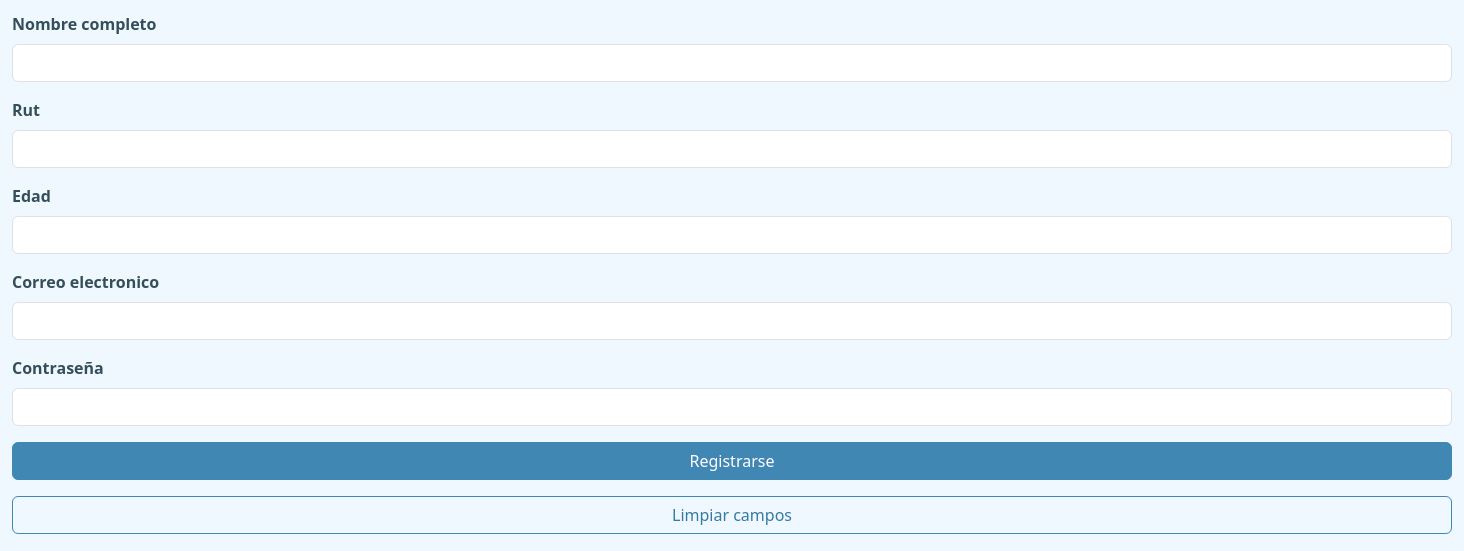
Limpia los campos del formulario al presionar el botón Limpiar campos
Step 1. Type "Carolina Fuentes" into the field labelled "Nombre completo" → coordinates (732, 63), box x1=12 y1=44 x2=1452 y2=82
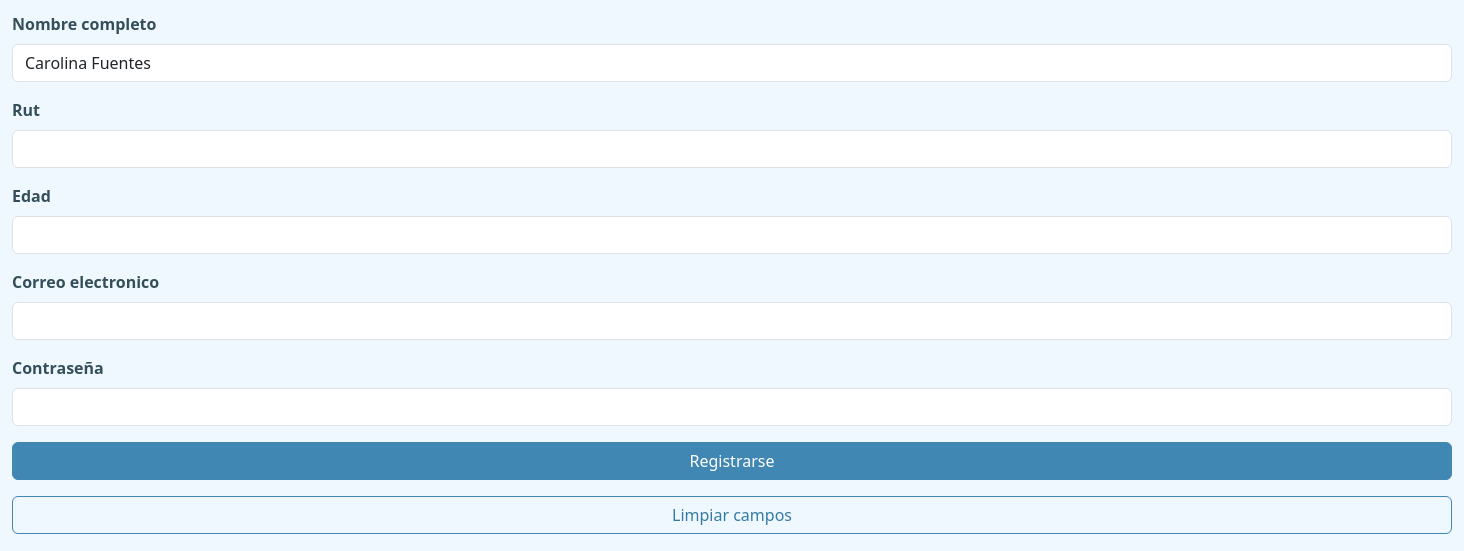
Step 2. Click the button "Limpiar campos" → coordinates (732, 515), box x1=12 y1=496 x2=1452 y2=534
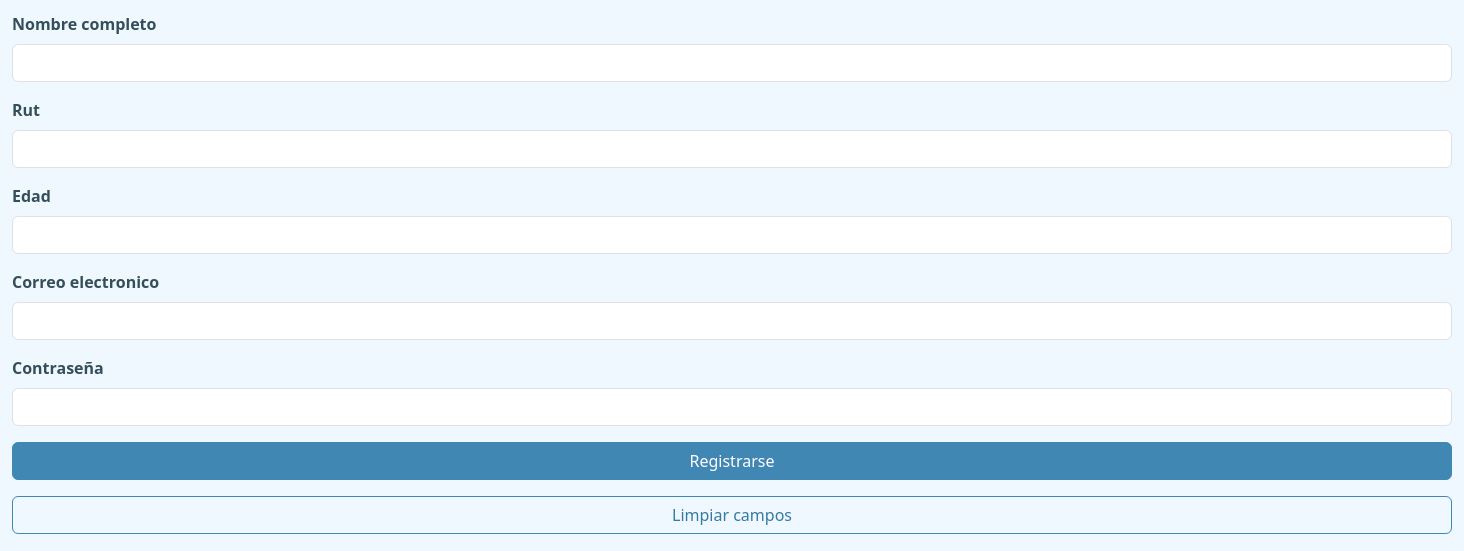
expect the field labelled "Nombre completo" is empty: met, box x1=12 y1=44 x2=1452 y2=82
